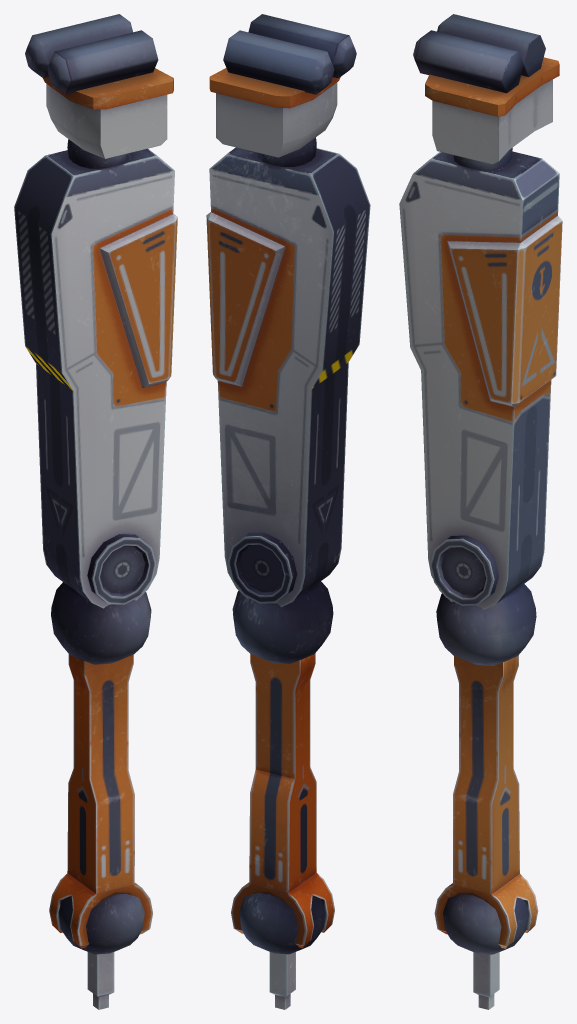
Rendered from brazo_parte1.fbx.
3 renders of one model, left to right at view 1: azimuth 30°, elevation 25°; view 2: azimuth 150°, elevation 25°; view 3: azimuth 330°, elevation 25°, orthographic.
Visible parts, largest first — view 1: B1.001, B2.001, Cube.003, B3.001; view 2: B1.001, B2.001, Cube.003, B3.001; view 3: B1.001, B2.001, Cube.003, B3.001.
Part boxes in pixels (box(x1,y1,x2,y2)): B1.001: box(14, 139, 177, 664); B2.001: box(49, 654, 152, 954); Cube.003: box(25, 14, 173, 158); B3.001: box(87, 952, 114, 1009); B1.001: box(206, 137, 370, 663); B2.001: box(231, 653, 334, 954); Cube.003: box(209, 14, 356, 157); B3.001: box(269, 952, 295, 1009); B1.001: box(399, 147, 562, 665); B2.001: box(434, 655, 538, 954); Cube.003: box(413, 14, 559, 164); B3.001: box(473, 952, 499, 1009).
Bounding box in the file's own units: 59 × 433 × 48.96.
